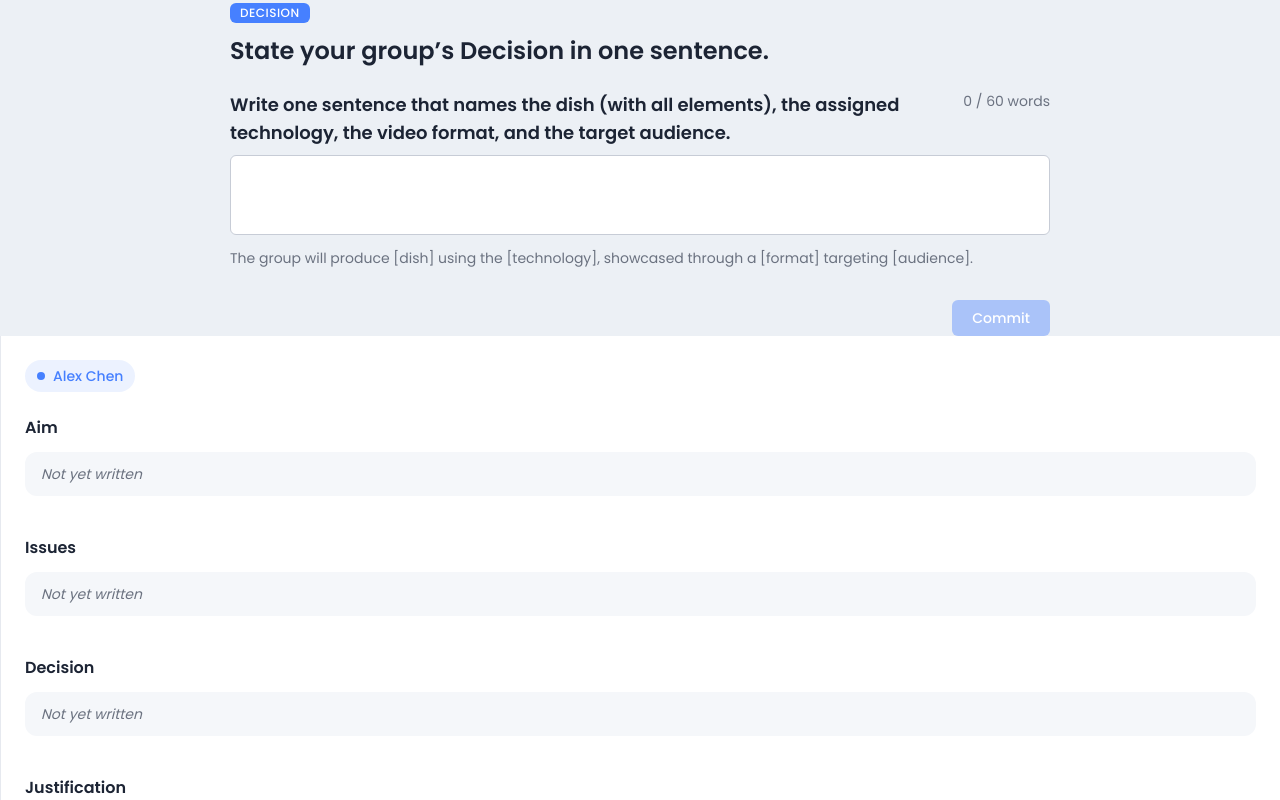
Test: SlideScaffold — guided mode › Commit button is enabled after filling the prompt
The width and height of the screenshot is (1280, 800).
Type "The group will produce custard French toast using the Thermomix, showcased through a tutorial targeting home cooks." into the text box named "Write one sentence that names the dish (with all elements), the assigned technology, the video format, and the target au". click: (640, 195)
box: [230,155,1050,235]
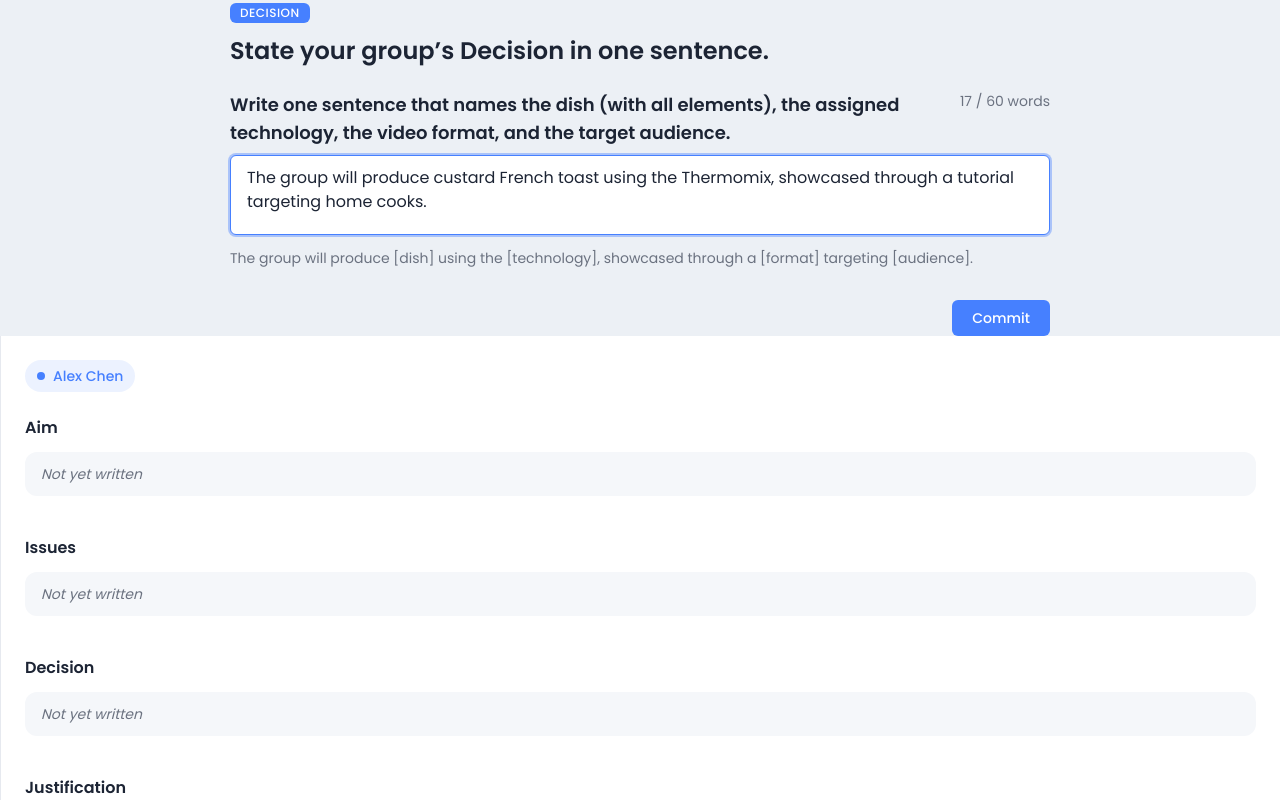
Check: the button "Commit" is enabled, box [952,300,1050,336]
